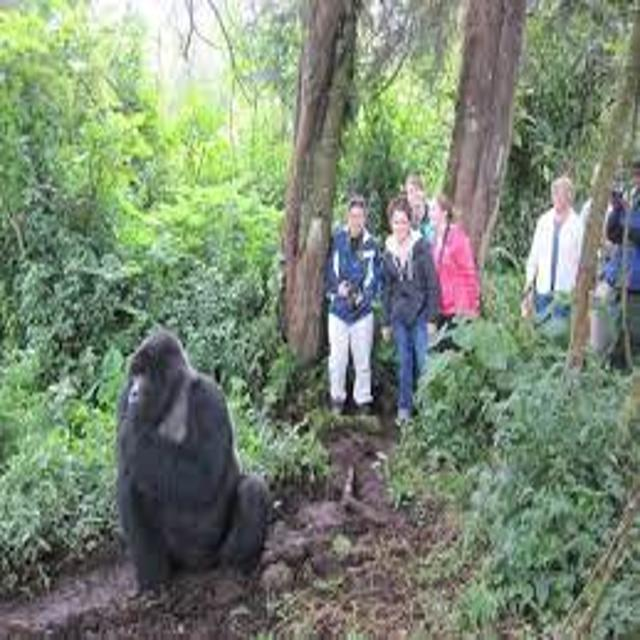poacher: (297, 176, 411, 432), (350, 185, 463, 442), (490, 158, 612, 369), (402, 174, 514, 366)
